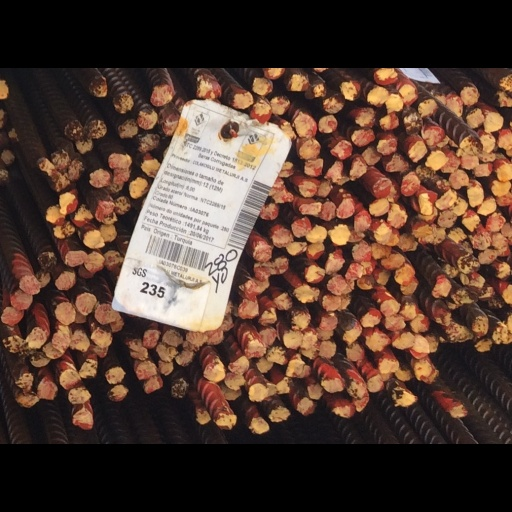dipstick: (293, 61, 317, 94), (414, 167, 438, 200), (150, 22, 174, 53), (95, 180, 118, 212), (75, 306, 98, 337), (376, 211, 399, 242), (55, 318, 78, 349), (95, 320, 119, 349), (59, 409, 82, 439), (409, 362, 429, 396), (298, 95, 320, 125), (418, 400, 439, 430), (294, 295, 319, 320), (366, 360, 390, 386), (9, 302, 33, 328), (323, 123, 343, 154), (339, 16, 361, 44), (84, 249, 105, 278), (72, 463, 93, 492), (39, 420, 58, 452), (129, 148, 149, 178), (394, 266, 414, 296), (387, 187, 407, 217), (136, 398, 159, 424), (250, 47, 272, 74), (323, 34, 345, 61), (329, 213, 350, 241), (367, 25, 388, 53), (52, 359, 72, 388), (291, 202, 311, 231), (403, 61, 421, 93), (52, 207, 75, 232), (82, 220, 105, 245), (386, 115, 409, 140), (351, 81, 374, 106), (24, 354, 47, 379), (238, 314, 260, 340), (426, 112, 448, 138), (490, 151, 512, 177), (137, 56, 158, 83), (45, 186, 65, 214), (355, 53, 375, 81), (286, 398, 310, 421), (348, 121, 367, 150), (90, 354, 112, 379), (329, 98, 351, 123), (85, 70, 106, 96), (55, 277, 76, 303), (228, 391, 249, 417), (296, 448, 317, 474), (254, 264, 275, 290), (360, 327, 381, 353), (435, 165, 456, 191), (50, 110, 70, 137), (401, 142, 419, 172), (64, 70, 83, 98), (423, 78, 442, 106), (459, 23, 478, 51), (461, 192, 480, 220), (485, 196, 504, 224), (197, 20, 220, 43), (108, 115, 132, 137), (224, 414, 246, 438), (374, 0, 398, 22), (19, 283, 41, 307), (59, 168, 76, 199), (138, 90, 159, 115), (162, 355, 183, 380), (157, 376, 178, 401), (267, 378, 288, 403), (171, 421, 189, 450), (141, 123, 161, 149), (283, 356, 303, 382), (272, 217, 292, 243), (270, 38, 290, 64), (448, 138, 468, 164), (71, 359, 90, 386), (327, 281, 346, 308), (483, 60, 502, 87), (468, 157, 484, 189), (163, 61, 180, 91), (479, 86, 496, 116), (68, 435, 90, 458), (322, 419, 345, 441), (113, 35, 134, 59), (66, 125, 84, 153), (39, 249, 57, 277), (204, 403, 225, 427), (232, 31, 253, 55), (354, 196, 372, 224), (398, 22, 416, 50), (431, 284, 449, 312), (2, 364, 23, 388), (89, 137, 109, 162), (97, 212, 117, 237), (143, 418, 163, 443), (324, 255, 344, 280), (2, 324, 22, 349), (79, 396, 98, 422), (305, 267, 324, 293), (352, 239, 371, 265), (361, 106, 380, 132), (410, 334, 429, 360), (463, 93, 482, 119), (102, 248, 120, 275), (336, 177, 354, 204), (319, 181, 337, 208), (286, 8, 308, 30), (381, 251, 403, 273), (107, 431, 128, 454), (393, 359, 414, 382), (377, 96, 398, 119), (118, 70, 138, 94), (105, 406, 125, 430), (175, 383, 195, 407), (249, 475, 269, 499), (252, 12, 272, 36), (307, 213, 327, 237), (369, 178, 389, 202), (373, 149, 390, 177), (142, 356, 161, 381), (248, 429, 267, 454), (287, 230, 306, 255), (347, 426, 366, 451), (343, 347, 362, 372), (346, 373, 364, 399), (456, 254, 474, 280), (65, 248, 86, 270), (269, 460, 291, 481), (333, 454, 355, 475), (216, 469, 236, 492), (380, 315, 400, 338), (30, 383, 50, 406), (408, 99, 425, 126), (88, 14, 107, 38), (185, 359, 209, 378), (395, 402, 414, 426), (400, 286, 419, 310), (418, 42, 437, 66), (472, 222, 490, 247), (396, 439, 417, 460), (298, 153, 318, 175), (15, 415, 35, 437), (44, 373, 63, 396), (245, 369, 264, 392), (273, 306, 292, 329), (253, 238, 272, 261), (304, 124, 323, 147), (399, 319, 418, 342), (379, 61, 398, 84), (259, 353, 277, 377), (306, 236, 324, 260), (411, 206, 429, 230), (319, 371, 336, 396), (367, 416, 384, 441), (466, 55, 483, 80), (470, 339, 487, 364), (384, 337, 405, 357), (291, 334, 310, 356), (474, 125, 493, 147), (318, 64, 336, 87), (114, 174, 131, 198), (397, 225, 414, 249), (260, 184, 278, 206), (319, 335, 337, 357), (322, 308, 340, 330), (346, 264, 363, 287), (438, 195, 455, 218), (76, 96, 94, 117), (379, 394, 397, 415), (497, 128, 512, 153), (307, 428, 323, 451), (260, 326, 276, 349), (355, 282, 374, 301), (157, 397, 174, 418), (256, 392, 273, 413), (274, 256, 288, 279), (196, 464, 210, 485), (264, 0, 285, 14), (114, 137, 130, 155), (276, 424, 292, 442), (450, 458, 466, 475)
